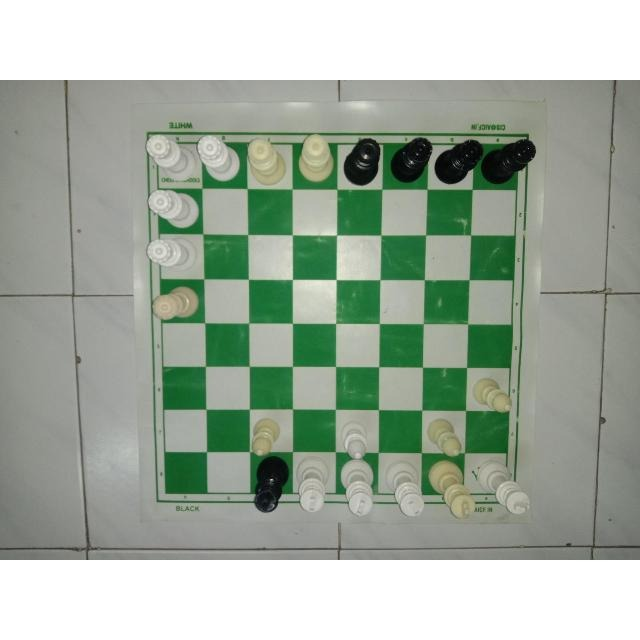black-king: (253, 455, 293, 515)
black-queen: (480, 132, 540, 188), (434, 138, 486, 186), (389, 135, 435, 185), (341, 136, 383, 188)
white-bishop: (470, 373, 516, 415), (424, 414, 464, 460), (338, 415, 375, 458), (249, 412, 282, 459)
white-king: (473, 458, 533, 518), (428, 457, 478, 520), (383, 460, 427, 520), (337, 456, 378, 517), (295, 453, 331, 515)
white-queen: (145, 133, 200, 185), (145, 187, 201, 233), (195, 130, 242, 184), (246, 135, 289, 189), (143, 235, 199, 274), (297, 132, 337, 186), (150, 284, 200, 322)
